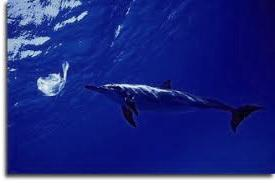Trash: (34, 56, 70, 101)
